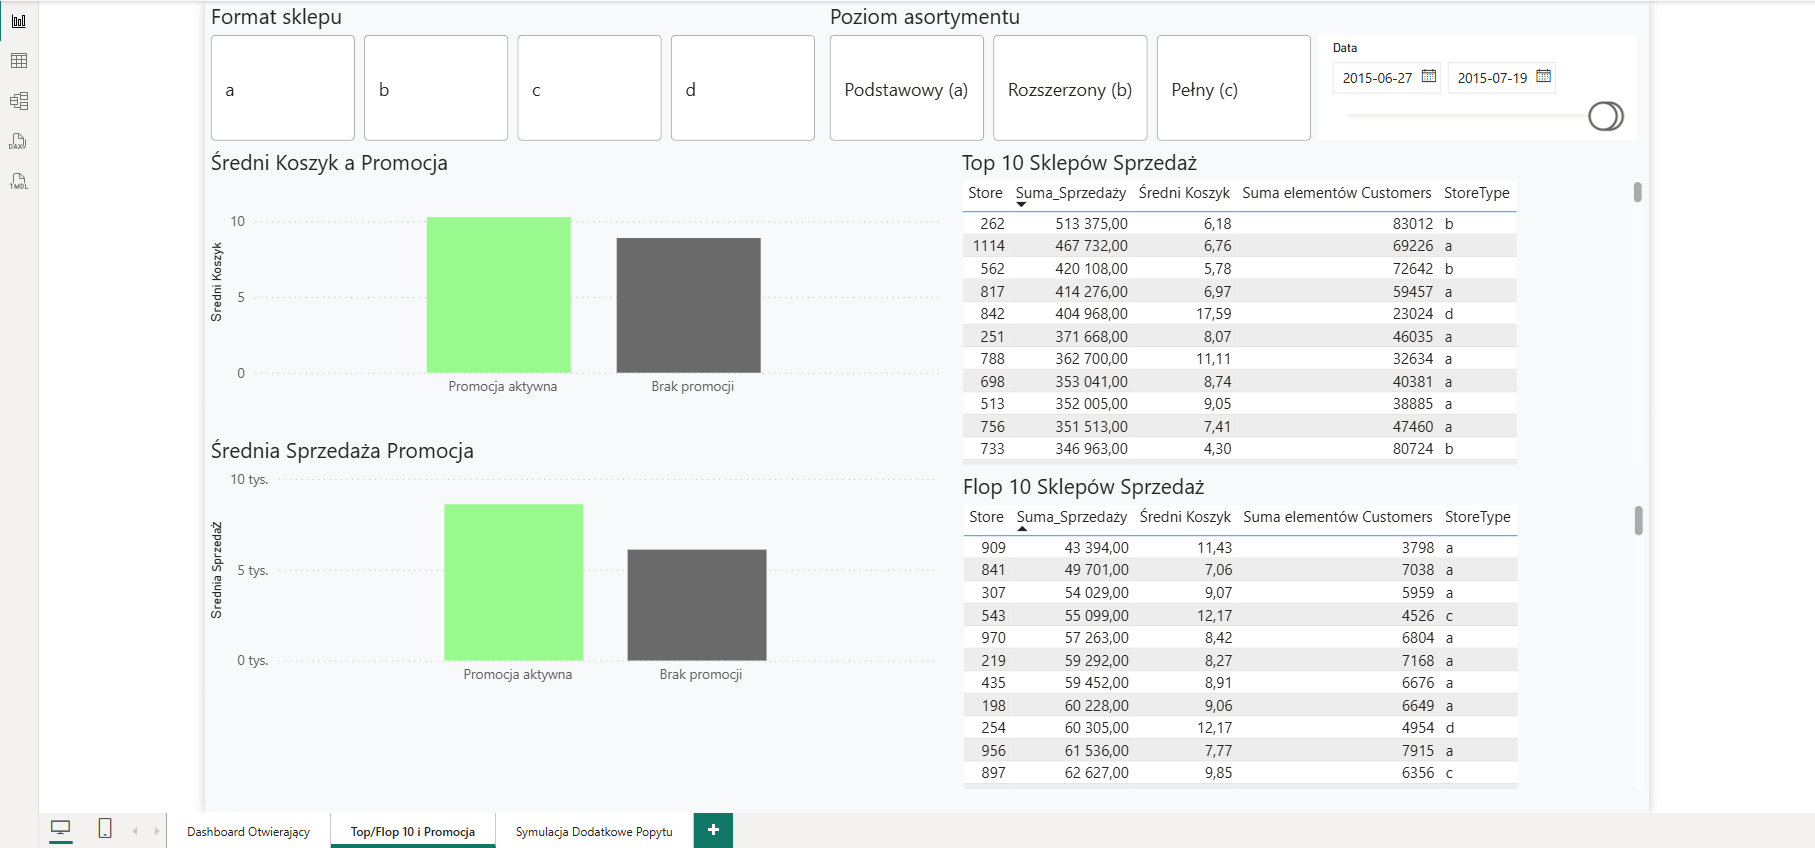

What the dashboard file says about the page in this screenshot:
{"tool":"powerbi","page":{"name":"Top/Flop 10 i Promocja","canvas":[1280,720],"ordinal":1},"visuals":[{"type":"advancedSlicerVisual","title":"Format sklepu","fields":{"Values":["rossmann_decision_data (1).StoreType"]},"box":[0,0,548.9,129.5],"z":0},{"type":"advancedSlicerVisual","title":"Poziom asortymentu","fields":{"Values":["rossmann_decision_data (1).Poziom_Asortymentu_Nazwa"]},"box":[548.9,0,438,129.5],"z":1000},{"type":"columnChart","title":"Średni Koszyk a Promocja","fields":{"Y":["rossmann_decision_data (1).Średni Koszyk"],"Category":["rossmann_decision_data (1).Status_Promocji"]},"box":[0,129.9,656.4,230.1],"z":2000},{"type":"columnChart","title":"Średnia Sprzedaża Promocja","fields":{"Y":["rossmann_decision_data (1).Średnia Sprzedaż"],"Category":["rossmann_decision_data (1).Status_Promocji"]},"box":[0,385,656,230],"z":3000},{"type":"tableEx","title":"Top 10 Sklepów Sprzedaż","fields":{"Values":["rossmann_decision_data (1).Store","rossmann_decision_data (1).Suma Sprzedaży","rossmann_decision_data (1).Średni Koszyk","Sum(rossmann_decision_data (1).Customers)","rossmann_decision_data (1).StoreType"]},"box":[665.9,129.5,613.6,287.3],"z":4000},{"type":"tableEx","title":"Flop 10 Sklepów Sprzedaż","fields":{"Values":["rossmann_decision_data (1).Store","rossmann_decision_data (1).Suma Sprzedaży","rossmann_decision_data (1).Średni Koszyk","Sum(rossmann_decision_data (1).Customers)","rossmann_decision_data (1).StoreType"]},"box":[666.8,416.7,613.6,287.3],"z":5000},{"type":"slicer","fields":{"Values":["rossmann_decision_data (1).Date"]},"box":[986.9,30.1,282,93.1],"z":6000}]}

Visuals, with their boxes on the page's 1280x720 design canvas (x1, y1, x2, y2). These are canvas units, not pixel positions in the 1815x848 screenshot, which may show the page scaled, cropped or inside an application window:
"Format sklepu" advancedSlicerVisual: BBox(0, 0, 549, 130)
"Poziom asortymentu" advancedSlicerVisual: BBox(549, 0, 987, 130)
"Średni Koszyk a Promocja" columnChart: BBox(0, 130, 656, 360)
"Średnia Sprzedaża Promocja" columnChart: BBox(0, 385, 656, 615)
"Top 10 Sklepów Sprzedaż" tableEx: BBox(666, 130, 1280, 417)
"Flop 10 Sklepów Sprzedaż" tableEx: BBox(667, 417, 1280, 704)
slicer - rossmann_decision_data (1).Date: BBox(987, 30, 1269, 123)
